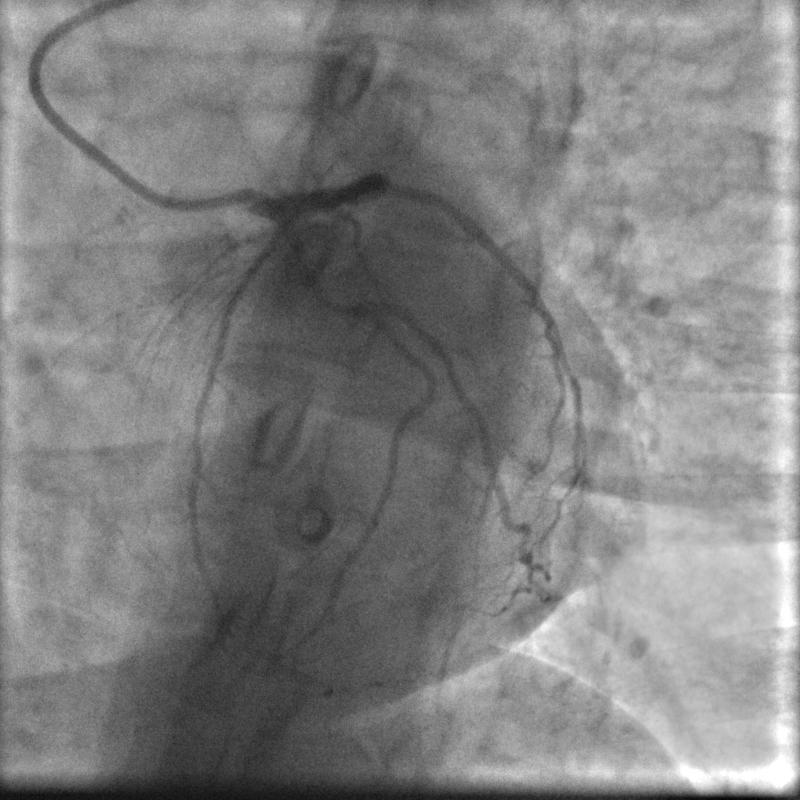Stenosis: (312, 275, 355, 321)
